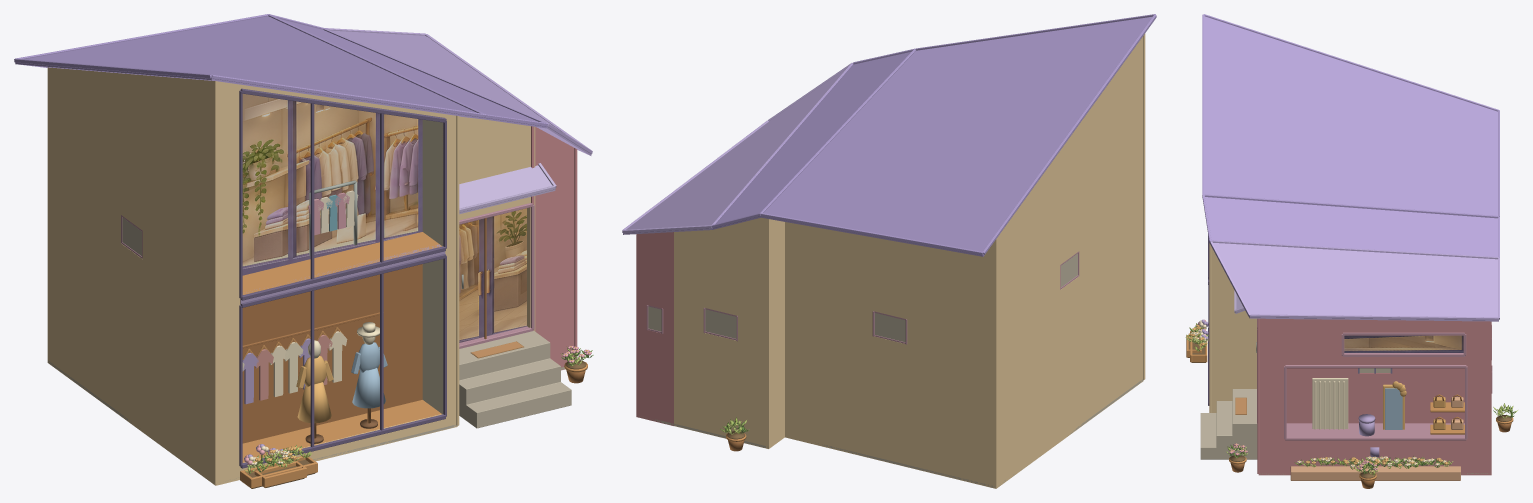
File: 14-A-b583e4cbaed3.glb
3 views of the same model, side by side, from view 1: azimuth 30°, elevation 25°; view 2: azimuth 150°, elevation 25°; view 3: azimuth 270°, elevation 25° (orthographic). The views are drawn at different scales.
Parts seen in each view (by area): view 1: SM_14_01_建筑墙体, SM_14_04_门窗楼梯, SM_14_02_曲面屋顶, SM_14_06_景观设施, SM_14_03_木构回廊, SM_14_05_景观植物; view 2: SM_14_01_建筑墙体, SM_14_02_曲面屋顶, SM_14_04_门窗楼梯, SM_14_03_木构回廊; view 3: SM_14_02_曲面屋顶, SM_14_01_建筑墙体, SM_14_04_门窗楼梯, SM_14_05_景观植物, SM_14_03_木构回廊.
Part boxes in pixels (<box>): SM_14_01_建筑墙体: <box>47,67,574,485</box>; SM_14_04_门窗楼梯: <box>121,88,571,468</box>; SM_14_02_曲面屋顶: <box>14,14,592,214</box>; SM_14_06_景观设施: <box>242,180,387,443</box>; SM_14_03_木构回廊: <box>213,81,577,484</box>; SM_14_05_景观植物: <box>240,345,593,488</box>; SM_14_01_建筑墙体: <box>636,37,1143,488</box>; SM_14_02_曲面屋顶: <box>622,14,1156,256</box>; SM_14_04_门窗楼梯: <box>646,251,1079,344</box>; SM_14_03_木构回廊: <box>1143,33,1145,379</box>; SM_14_02_曲面屋顶: <box>1202,14,1499,321</box>; SM_14_01_建筑墙体: <box>1212,248,1491,475</box>; SM_14_04_门窗楼梯: <box>1200,234,1492,459</box>; SM_14_05_景观植物: <box>1185,319,1517,488</box>; SM_14_03_木构回廊: <box>1209,243,1259,473</box>.
Size of the model in its own units: 11.9 by 10.57 by 10.19.
34 materials, 1 textured.
